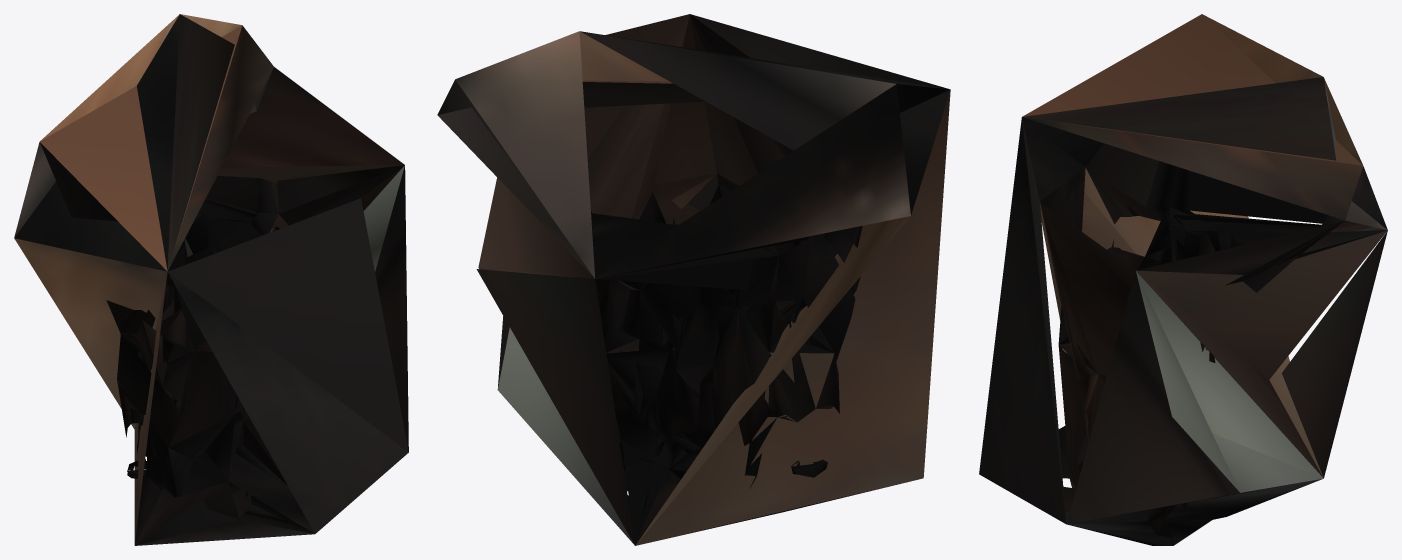
Rendered from 00_watercarrier.fbx.
3 renders of one model, left to right at view 1: azimuth 30°, elevation 25°; view 2: azimuth 150°, elevation 25°; view 3: azimuth 270°, elevation 25°, orthographic. The views are drawn at different scales.
Visible parts, largest first — view 1: 00_watercarrier; view 2: 00_watercarrier; view 3: 00_watercarrier.
Boxes of the visible parts, <box> form: 00_watercarrier: <box>14,14,408,545</box>; 00_watercarrier: <box>437,14,950,545</box>; 00_watercarrier: <box>979,14,1387,545</box>.
Bounding box in the file's own units: 30.58 × 35 × 29.29.
1 material, 1 textured.
